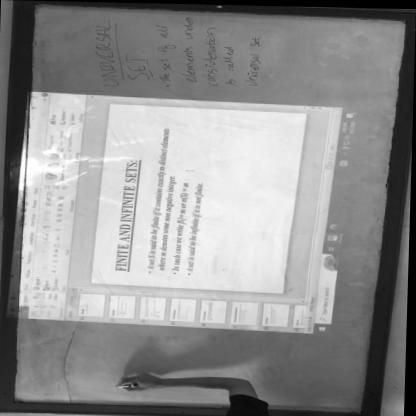Handwritten text: (86, 20, 123, 89), (241, 32, 272, 89), (174, 16, 199, 82), (151, 21, 176, 83), (198, 24, 220, 87), (218, 38, 237, 87), (119, 50, 148, 81)
Whiteboard: (10, 0, 414, 416)
